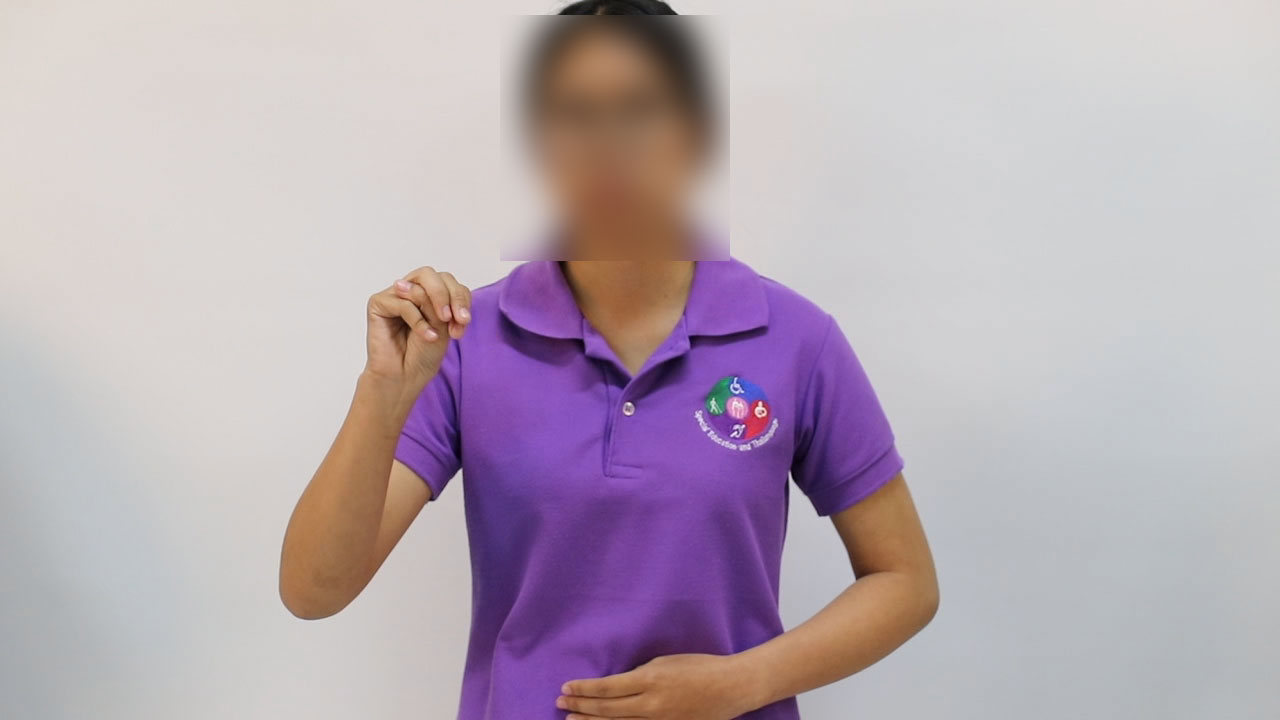mor: (352, 245, 483, 429)
